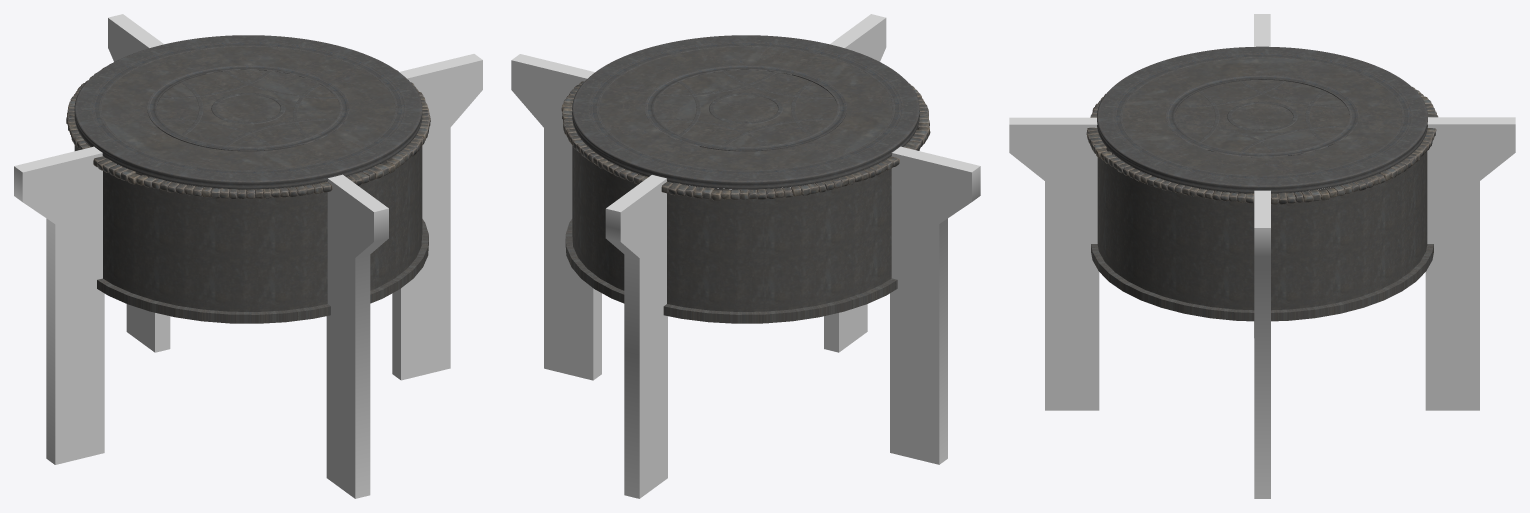
The model's file is Arena.fbx.
3 views of the same model, side by side, from view 1: azimuth 30°, elevation 25°; view 2: azimuth 150°, elevation 25°; view 3: azimuth 270°, elevation 25° (orthographic). The views are drawn at different scales.
Visible parts, largest first — view 1: Box004, Object036, Plane006, Object011, blocks_017, Object037; view 2: Box004, Object036, Plane006, Object011, blocks_017, Object037; view 3: Box004, Object036, Plane006, Object011, Object037, blocks_017.
Boxes of the visible parts, x1=… form: Box004: x1=14, y1=14, x2=482, y2=498; Object036: x1=74, y1=133, x2=422, y2=311; Plane006: x1=101, y1=46, x2=395, y2=170; Object011: x1=74, y1=35, x2=422, y2=189; blocks_017: x1=66, y1=64, x2=430, y2=199; Object037: x1=97, y1=219, x2=428, y2=323; Box004: x1=511, y1=14, x2=980, y2=498; Object036: x1=572, y1=127, x2=919, y2=311; Plane006: x1=599, y1=46, x2=892, y2=170; Object011: x1=572, y1=35, x2=919, y2=189; blocks_017: x1=561, y1=81, x2=930, y2=200; Object037: x1=565, y1=219, x2=897, y2=323; Box004: x1=1009, y1=14, x2=1515, y2=498; Object036: x1=1097, y1=144, x2=1427, y2=310; Plane006: x1=1122, y1=57, x2=1402, y2=175; Object011: x1=1097, y1=46, x2=1427, y2=193; Object037: x1=1091, y1=244, x2=1433, y2=321; blocks_017: x1=1086, y1=87, x2=1438, y2=204.
Size of the model in its own units: 3990 by 2531 by 3990.
